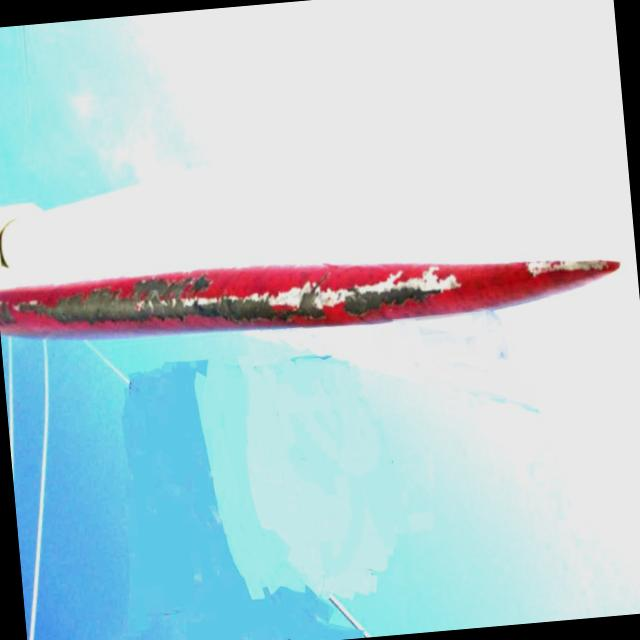corrosion: (11, 253, 460, 346), (518, 248, 614, 283)
